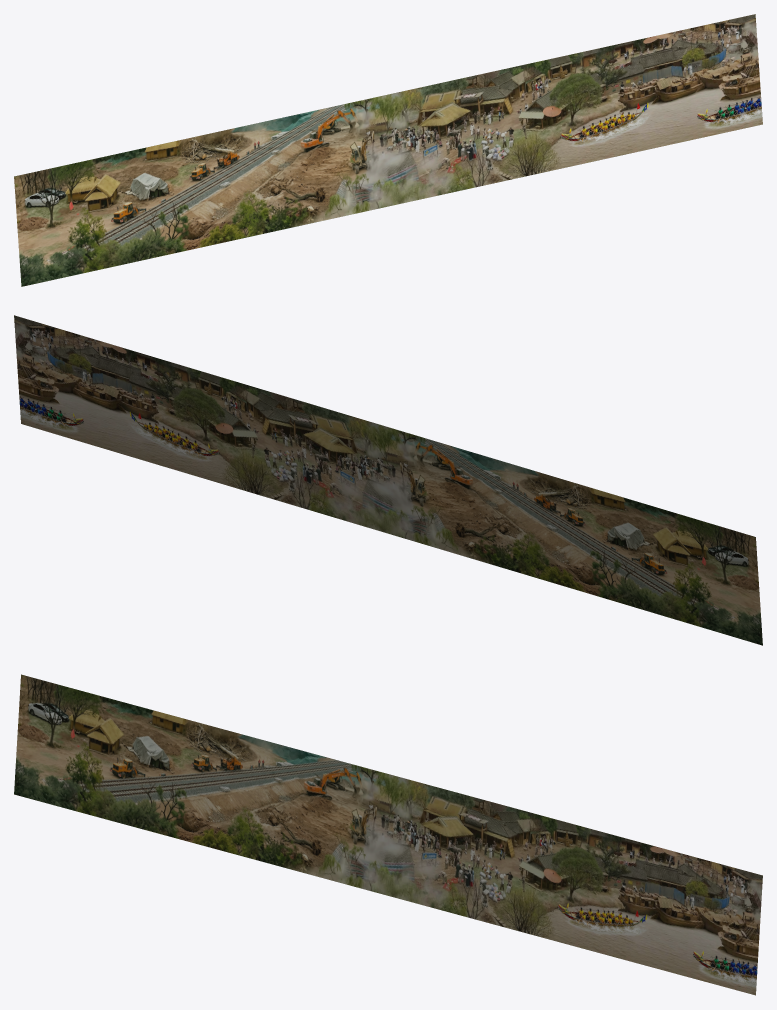
The picture shows the model from 3 angles, top to bottom: view 1: azimuth 30°, elevation 25°; view 2: azimuth 150°, elevation 25°; view 3: azimuth 330°, elevation 25°; orthographic projection. The views are drawn at different scales.
Parts seen in each view (by area): view 1: 平面; view 2: 平面; view 3: 平面.
Part boxes in pixels (x1,y1,x2,y2): 平面: [14, 14, 762, 286]; 平面: [14, 315, 762, 645]; 平面: [14, 674, 762, 995].
Size of the model in its own units: 14.06 by 2.17 by 1.22.
Materials: 1 (1 with a texture image).
